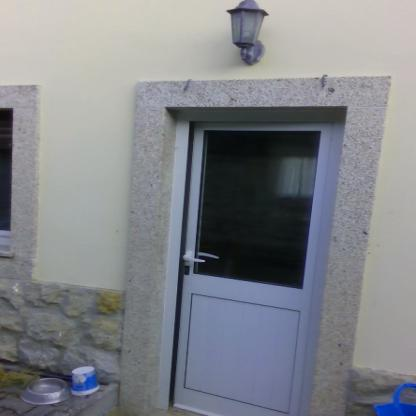door: (188, 120, 338, 415)
lever: (176, 255, 205, 267)
